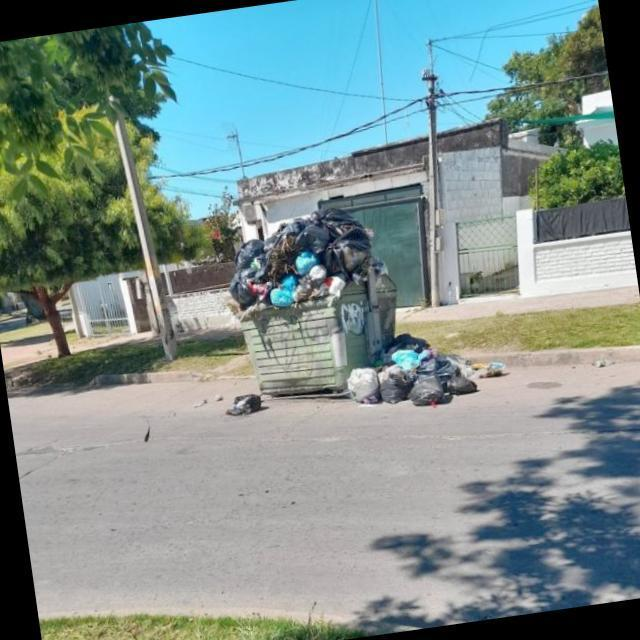garbage: (193, 187, 442, 322), (335, 298, 530, 446), (198, 352, 276, 431), (431, 276, 469, 310)
